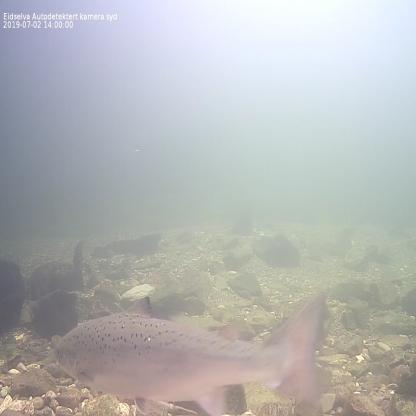salmon: (50, 285, 335, 416)
